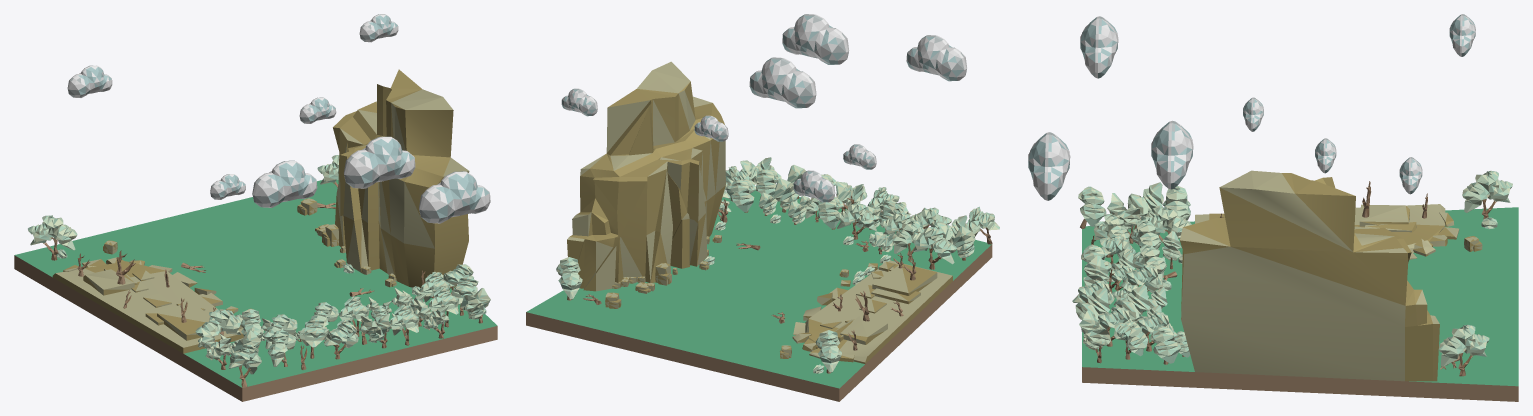
The picture shows the model from 3 angles, left to right: view 1: azimuth 30°, elevation 25°; view 2: azimuth 150°, elevation 25°; view 3: azimuth 270°, elevation 25°; orthographic projection. The views are drawn at different scales.
Parts seen in each view (by area): view 1: SM_Ground, SM, Origami_cloud14, Origami_cloud2:Origami_cloud2, Origami_cloud13, Origami_cloud12, Origami_cloud9, Origami_cloud10, Origami_cloud11; view 2: SM_Ground, SM, Origami_cloud14, Origami_cloud2:Origami_cloud2, Origami_cloud13, Origami_cloud12, Origami_cloud9, Origami_cloud10, Origami_cloud11; view 3: SM_Ground, SM, Origami_cloud2:Origami_cloud2, Origami_cloud14, Origami_cloud13, Origami_cloud12, Origami_cloud9, Origami_cloud10, Origami_cloud11.
Part boxes in pixels (x1,y1,x2,y2): SM_Ground: [14, 69, 497, 401]; SM: [28, 155, 490, 387]; Origami_cloud14: [419, 171, 490, 223]; Origami_cloud2:Origami_cloud2: [344, 136, 415, 188]; Origami_cloud13: [252, 160, 317, 207]; Origami_cloud12: [67, 65, 112, 97]; Origami_cloud9: [359, 14, 398, 42]; Origami_cloud10: [299, 97, 336, 123]; Origami_cloud11: [210, 174, 245, 199]; SM_Ground: [526, 61, 992, 401]; SM: [556, 157, 999, 373]; Origami_cloud14: [782, 14, 849, 64]; Origami_cloud2:Origami_cloud2: [749, 57, 816, 108]; Origami_cloud13: [906, 35, 966, 81]; Origami_cloud12: [793, 170, 835, 202]; Origami_cloud9: [561, 88, 597, 116]; Origami_cloud10: [694, 115, 728, 141]; Origami_cloud11: [843, 144, 876, 169]; SM_Ground: [1082, 170, 1518, 401]; SM: [1072, 170, 1512, 376]; Origami_cloud2:Origami_cloud2: [1151, 120, 1193, 189]; Origami_cloud14: [1028, 132, 1070, 200]; Origami_cloud13: [1080, 16, 1118, 78]; Origami_cloud12: [1449, 14, 1475, 56]; Origami_cloud9: [1399, 157, 1422, 194]; Origami_cloud10: [1315, 138, 1336, 173]; Origami_cloud11: [1243, 97, 1263, 131].
Bounding box in the file's own units: 48.17 × 31.04 × 53.93.
